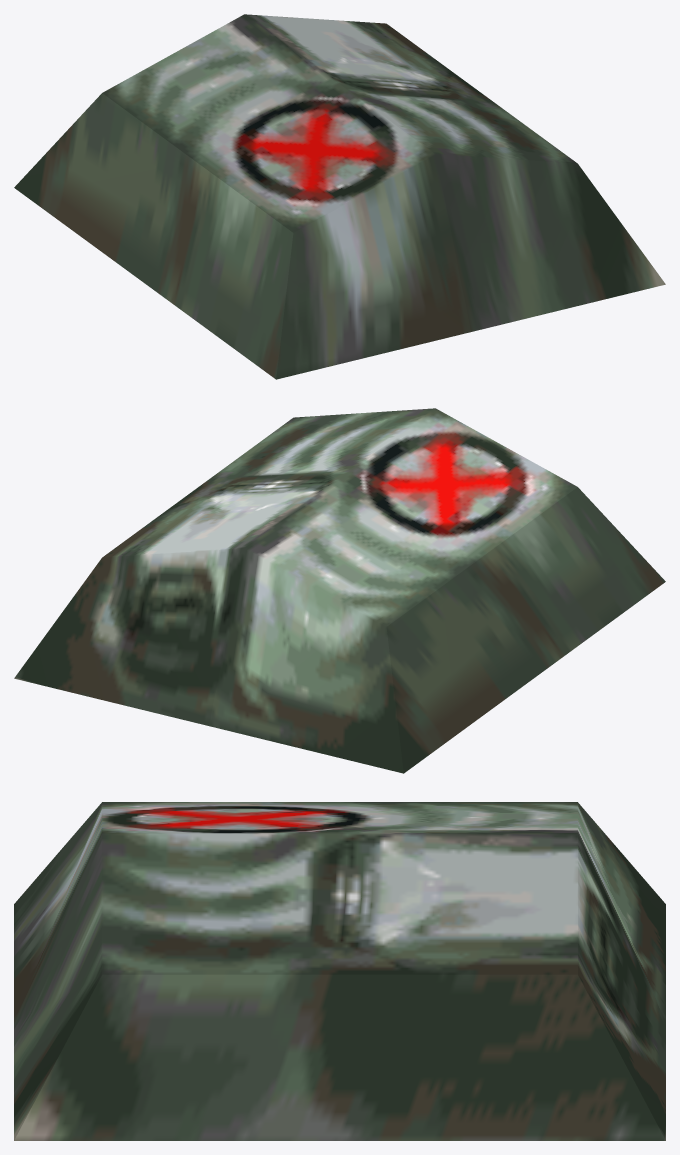
File: Medkit2.glb
The picture shows the model from 3 angles, top to bottom: view 1: azimuth 30°, elevation 25°; view 2: azimuth 150°, elevation 25°; view 3: azimuth 270°, elevation 25°; orthographic projection. The views are drawn at different scales.
Visible parts, largest first — view 1: medkit2; view 2: medkit2; view 3: medkit2.
Part boxes in pixels (x1,y1,x2,y2): medkit2: [14, 14, 665, 379]; medkit2: [14, 408, 665, 773]; medkit2: [14, 802, 665, 1140].
Size of the model in its own units: 0.3152 by 0.1173 by 0.3672.
Materials: 1 (1 with a texture image).
